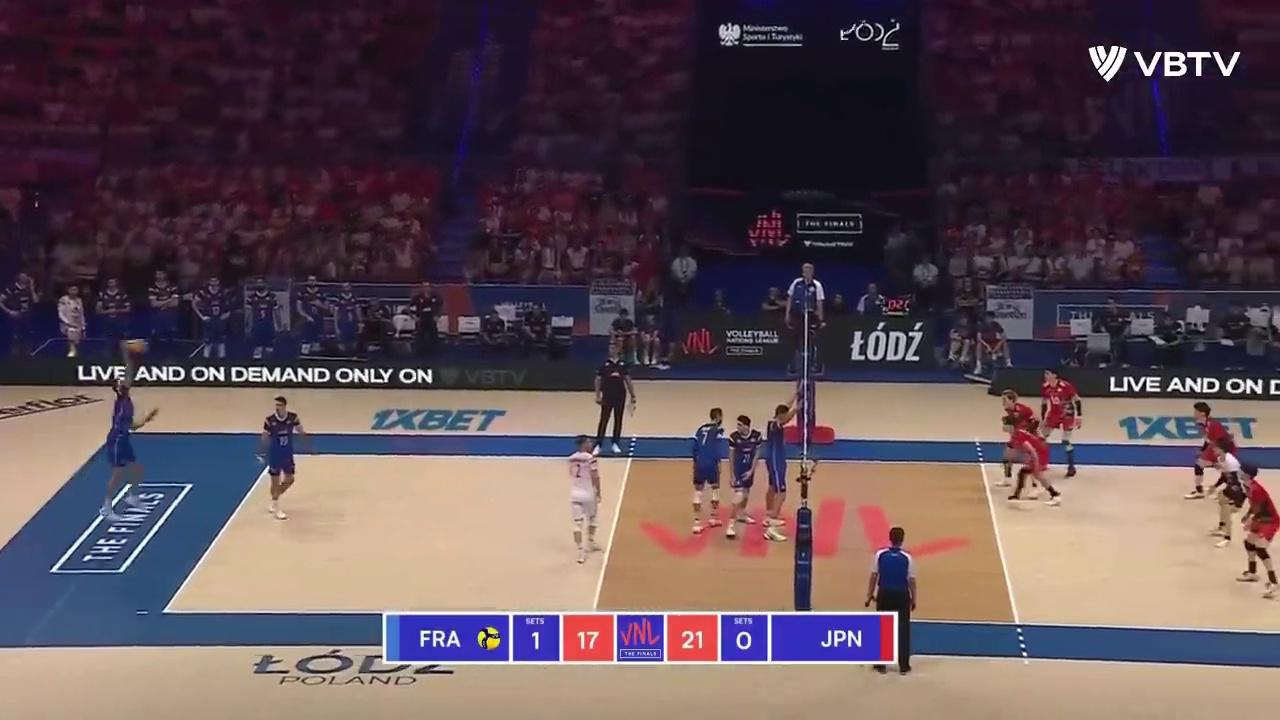ball: (127, 339, 144, 352)
